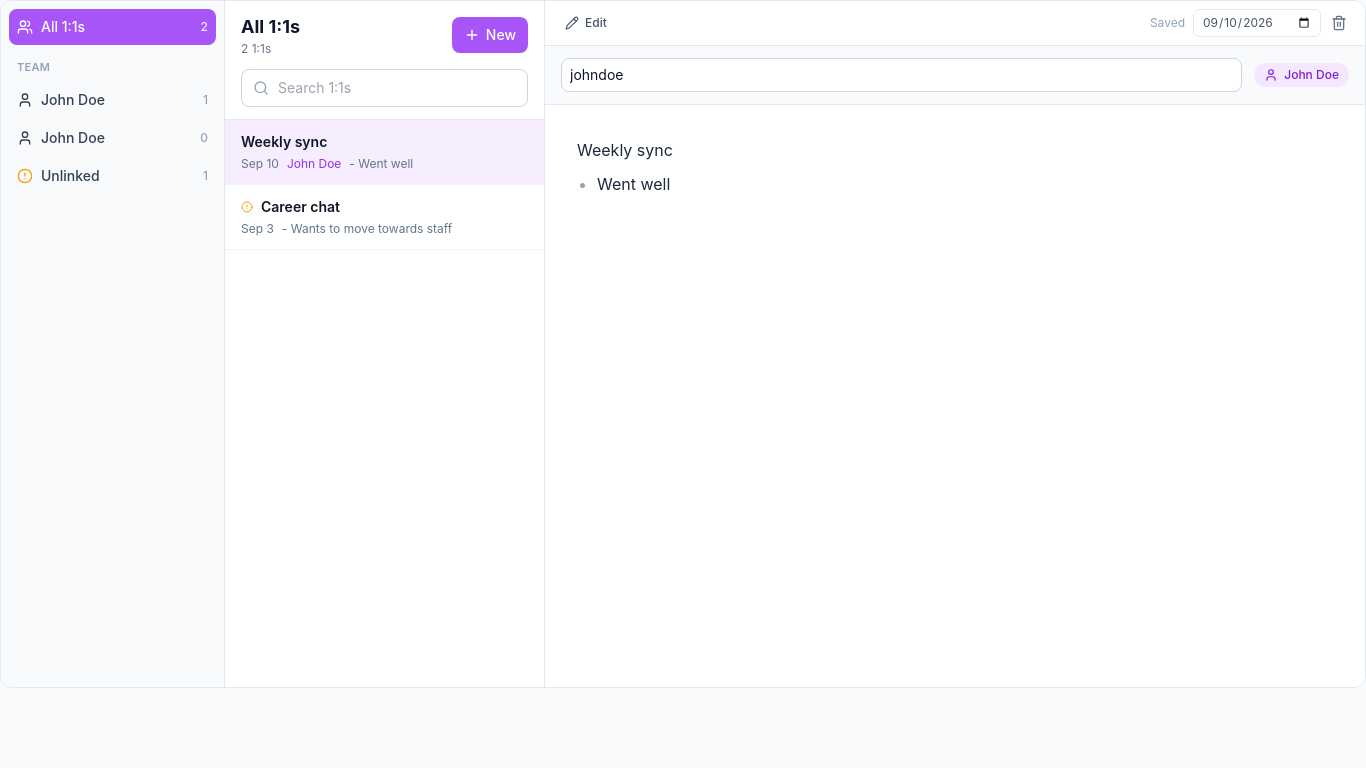
Test case: 1:1 Meetings page › should link the person named in the tags
Click the text "Career chat" at {"x": 300, "y": 206}, box [261,198,340,215]
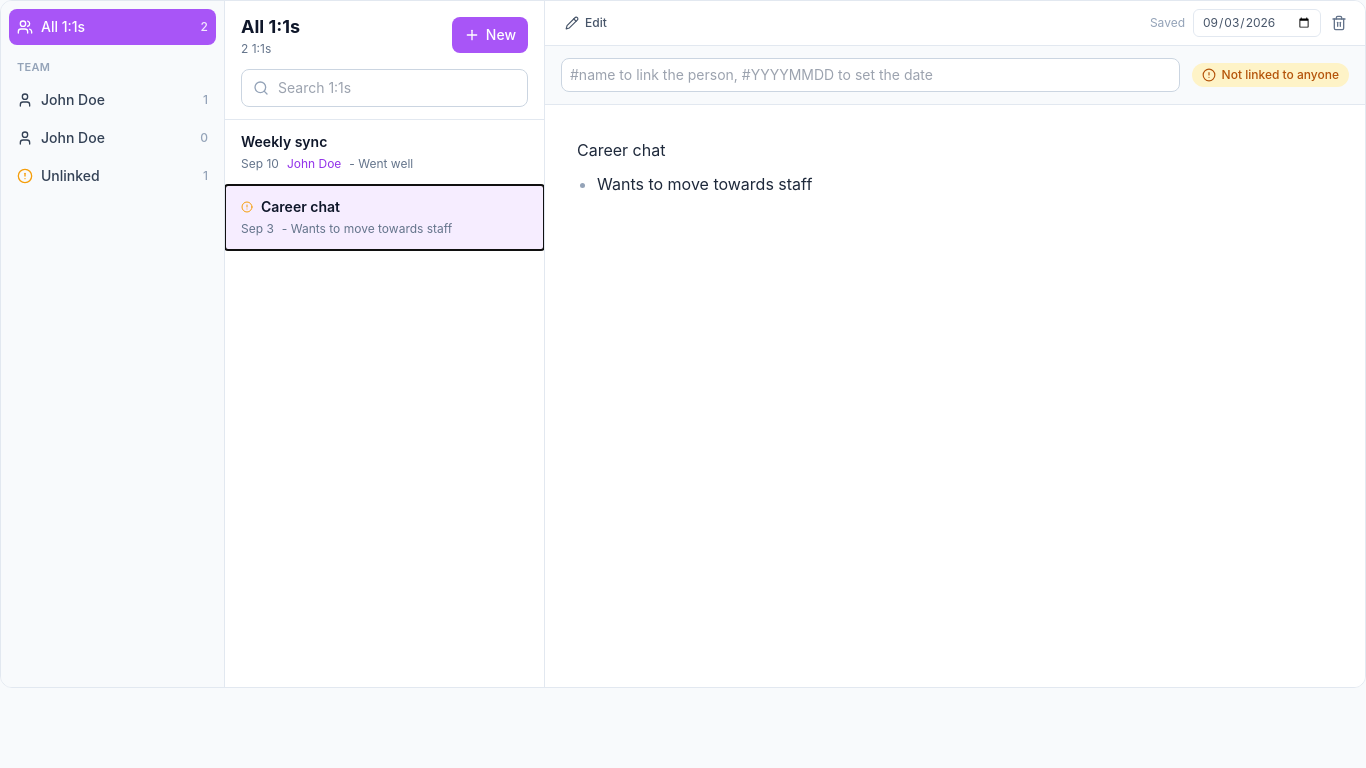
Expected: the text "Not linked to anyone" is shown, [1192,63,1349,87]
Type "doe" into the field named "1:1 tags" at {"x": 870, "y": 75}, box [561,58,1180,92]
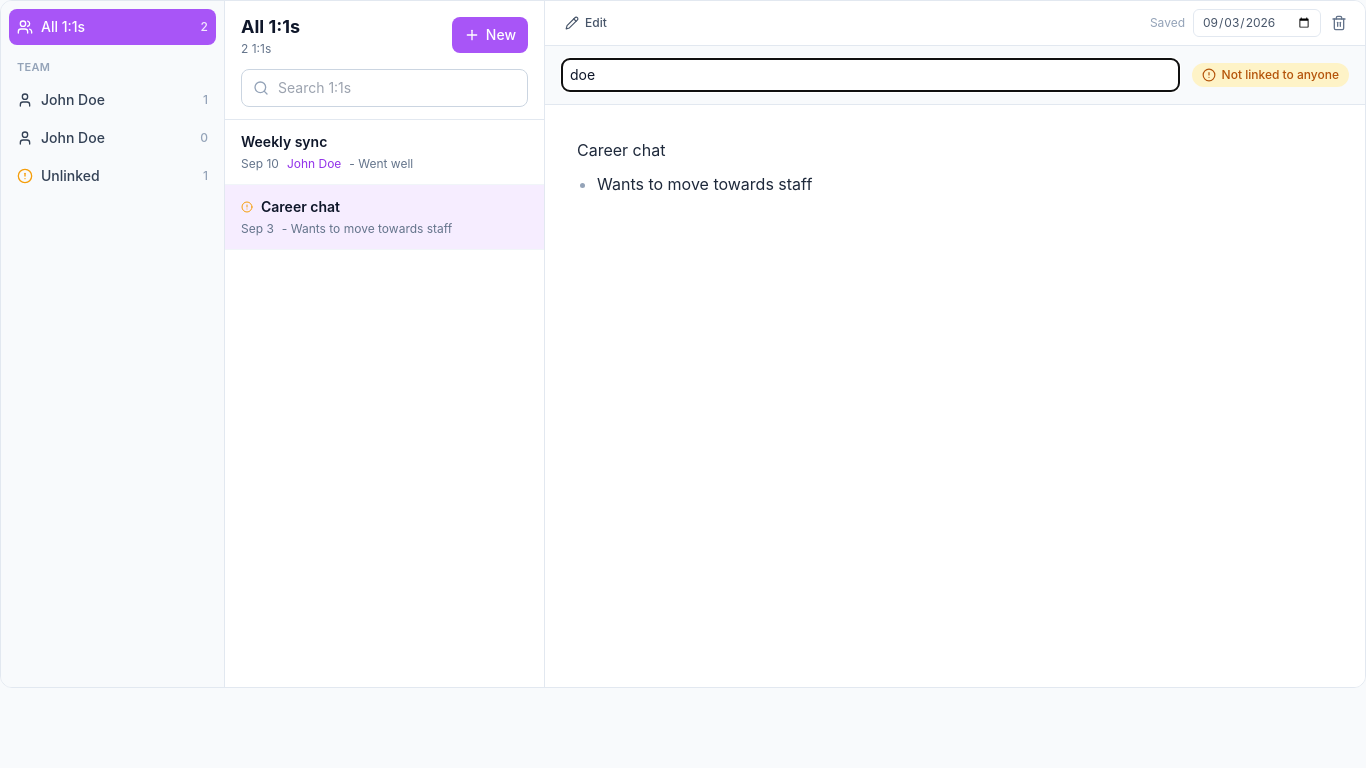
Press Tab
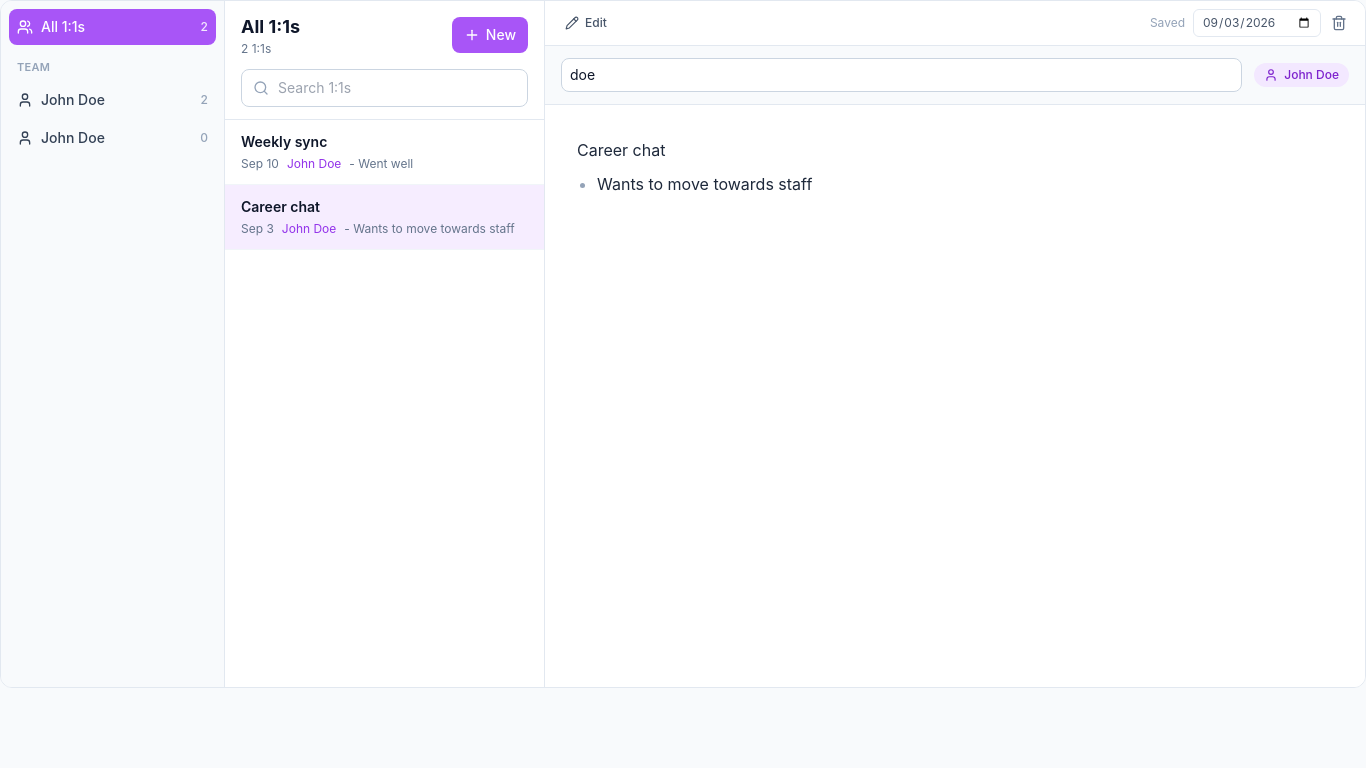
Expected: the text "Not linked to anyone" is gone
